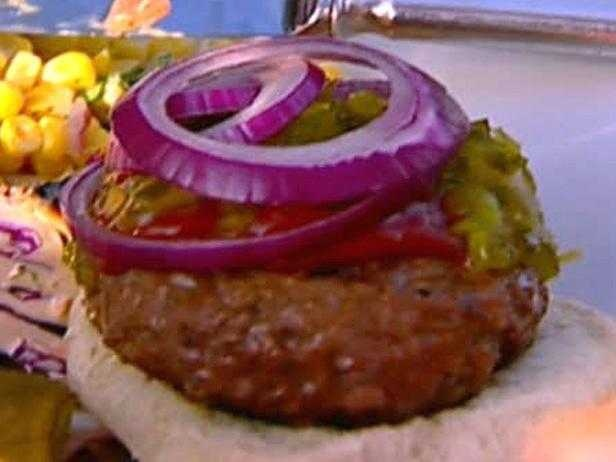hamburger: (83, 85, 570, 445)
